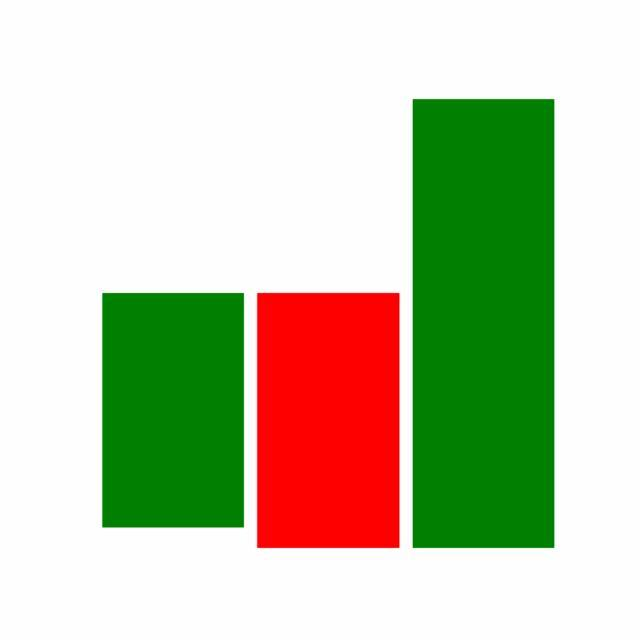Marubozu: (250, 290, 407, 551)
